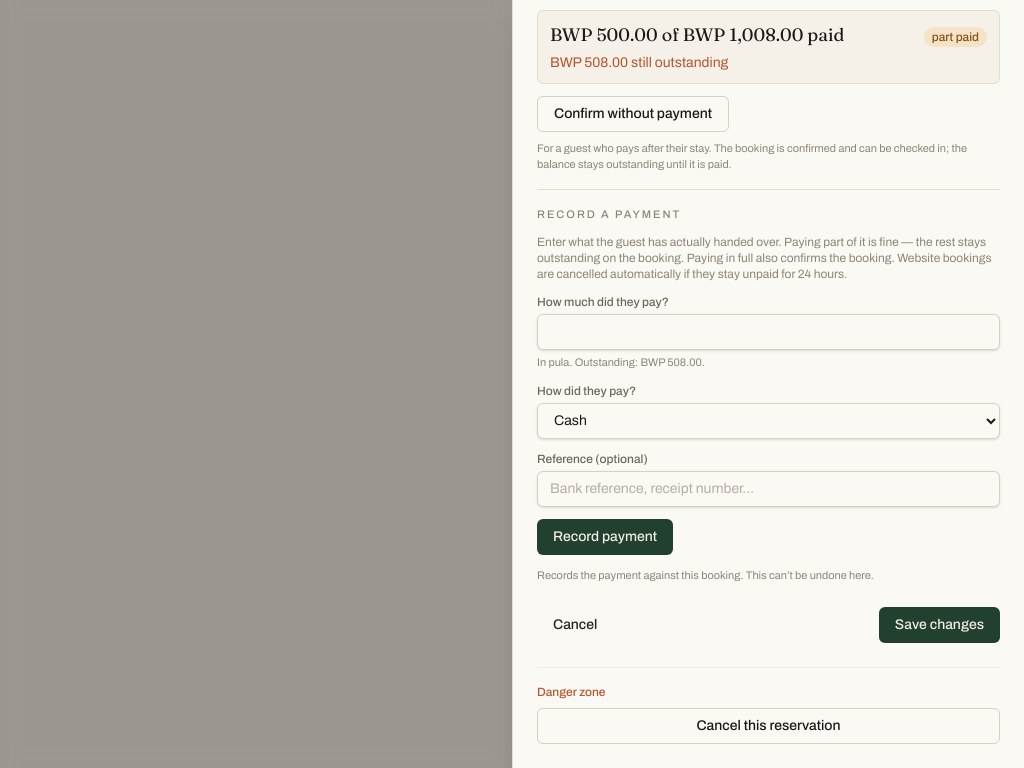
ReservationFormDrawer — the money on a booking › defaults to the OUTSTANDING amount, not the whole stay
The image size is (1024, 768).
(page scrolled)
What coordinates should you click on to do the following:
click the button "Record payment"
I would click on:
 (605, 536)
Its box is [537, 518, 673, 554].
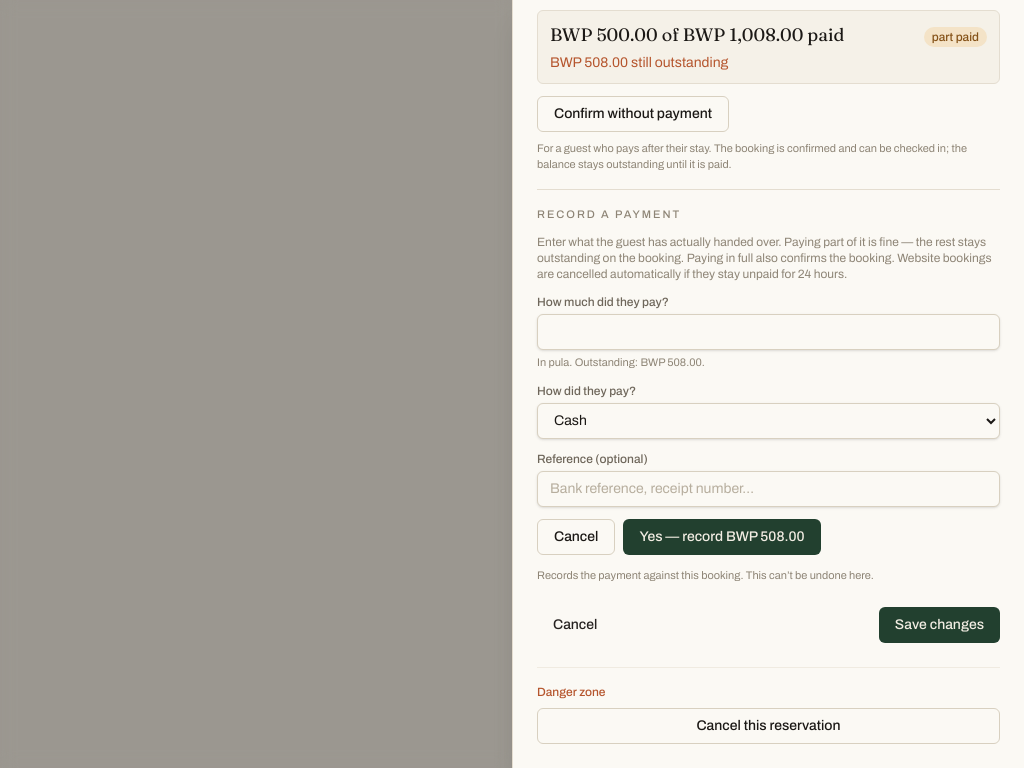
Result: the button "Yes — record BWP 508.00" is shown at [623, 518, 820, 554]
